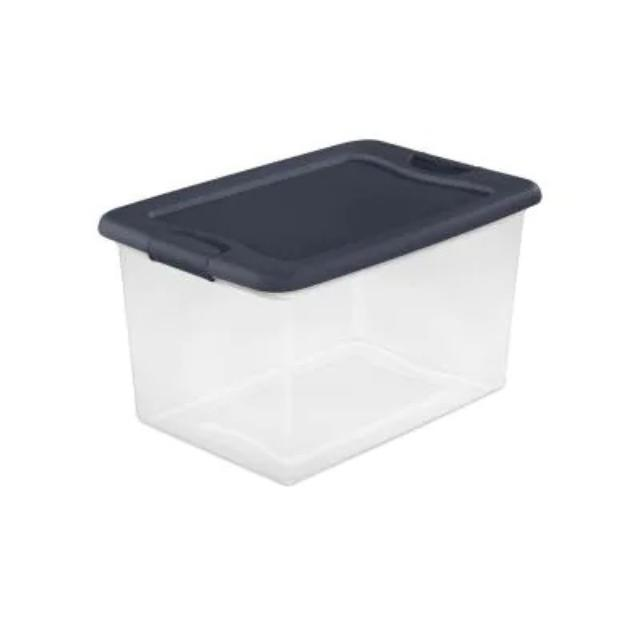plastic: (98, 140, 540, 485)
